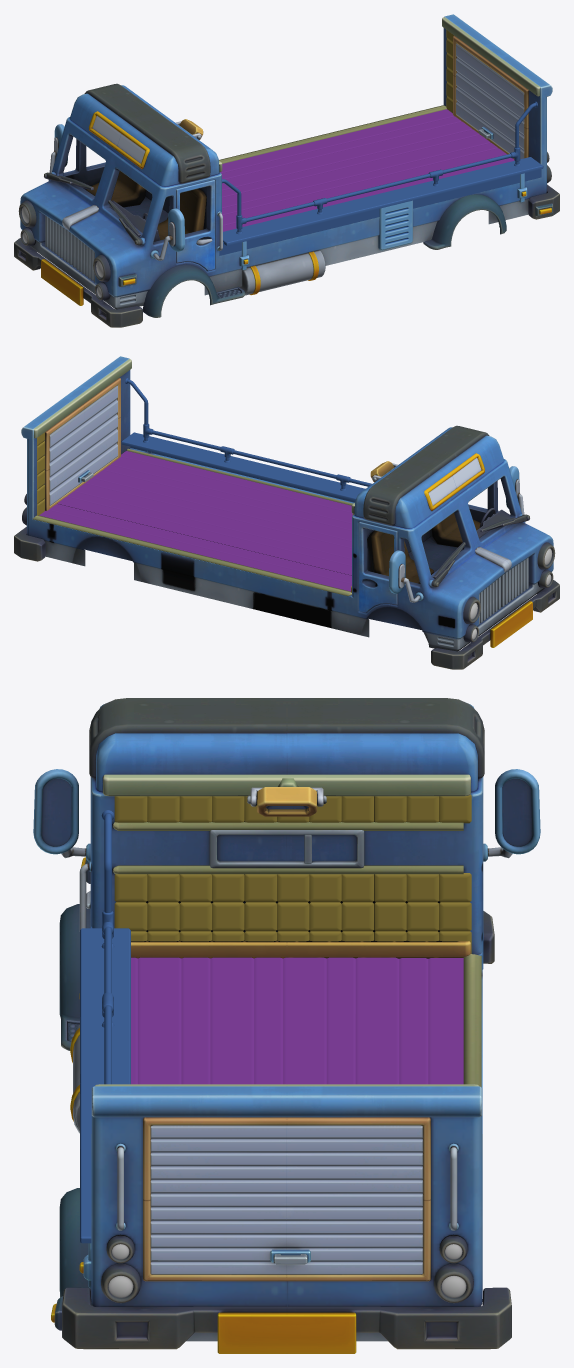
The model's file is m_lorry_van_front_01.fbx.
3 views of the same model, one above another, from view 1: azimuth 30°, elevation 25°; view 2: azimuth 150°, elevation 25°; view 3: azimuth 270°, elevation 25° (orthographic). The views are drawn at different scales.
Visible parts, largest first — view 1: m_lorry_van_front_01; view 2: m_lorry_van_front_01; view 3: m_lorry_van_front_01.
Boxes of the visible parts, x1,y1,x2,y2 form: m_lorry_van_front_01: [14, 14, 559, 327]; m_lorry_van_front_01: [14, 356, 559, 669]; m_lorry_van_front_01: [33, 698, 540, 1353].
Size of the model in its own units: 15.48 by 5.18 by 7.59.
4 materials, 1 textured.
